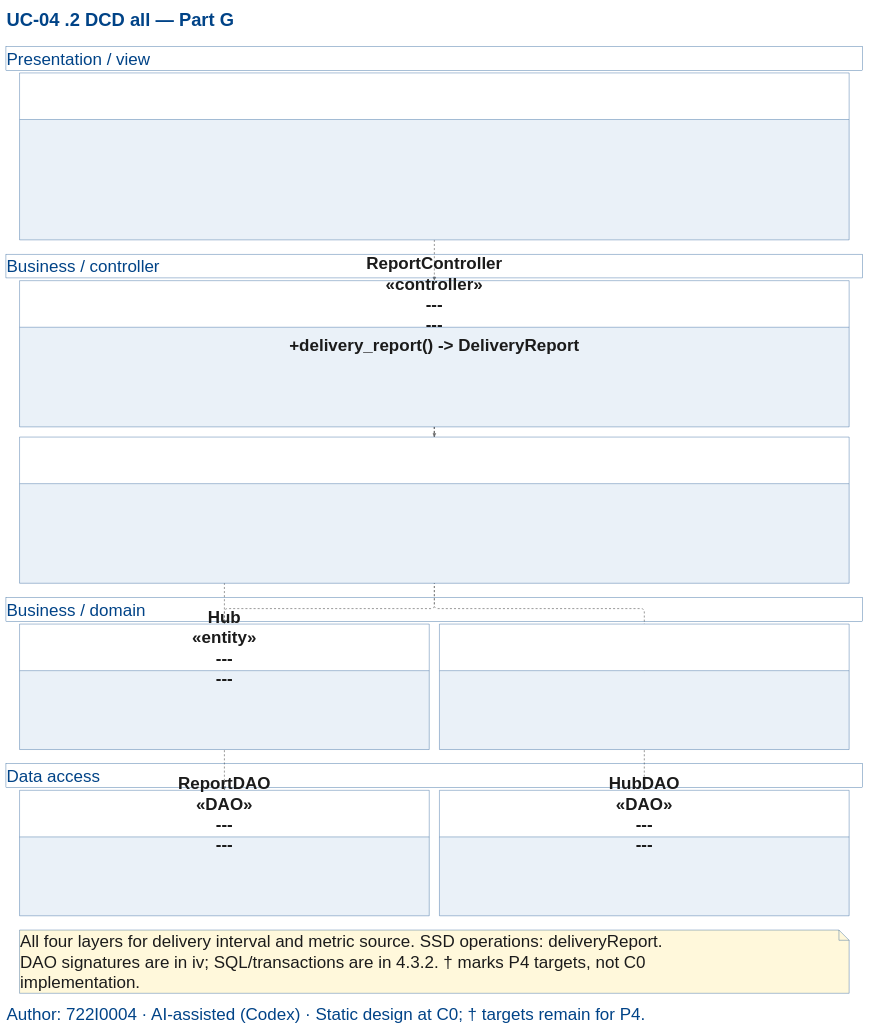
Some shapes in this 869 by 1030 pixel diagram are drawn without their labels. The centre of each missing label's shape, as x and y in pixels:
"controllers.report_controller «module» --- --- -_minutes() -> Optional[float]" goes at [434,510].
"DeliveryState «enumeration» --- ---" goes at [644,687].
"reports «view» --- --- +delivery() * -_filtered() *" goes at [434,156].
